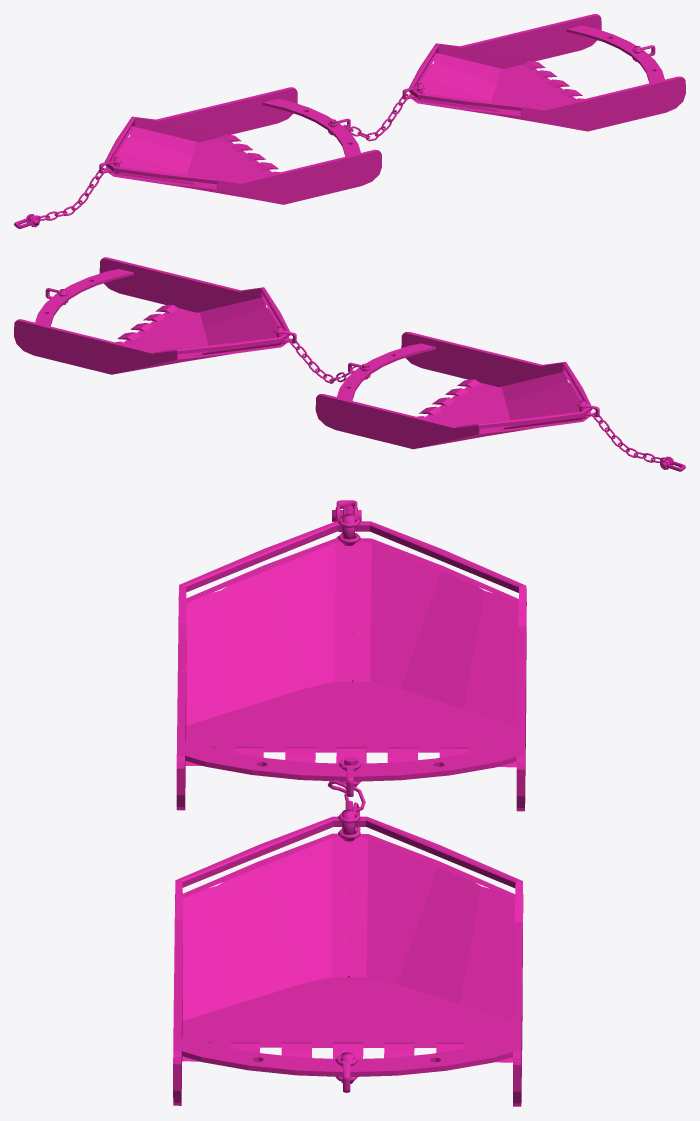
Rendered from Scraper.fbx.
3 renders of one model, top to bottom at view 1: azimuth 30°, elevation 25°; view 2: azimuth 150°, elevation 25°; view 3: azimuth 270°, elevation 25°, orthographic. The views are drawn at different scales.
Parts seen in each view (by area): view 1: Torus.009; view 2: Torus.009; view 3: Torus.009.
Boxes of the visible parts, <box> form: Torus.009: <box>14,14,685,228</box>; Torus.009: <box>14,257,685,471</box>; Torus.009: <box>173,500,526,1106</box>.
Bounding box in the file's own units: 487 × 34.43 × 117.
